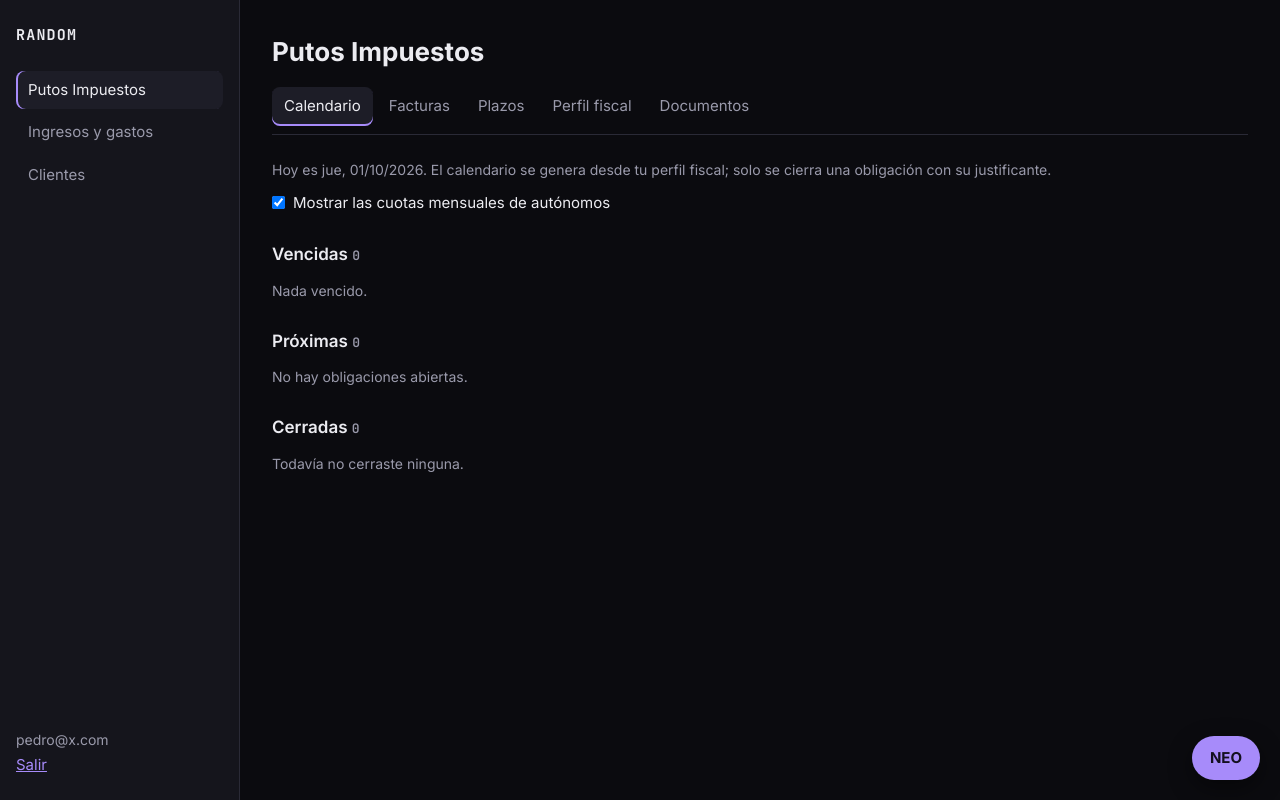
Scenario: shell › salir cierra la sesión
Click the button "Salir" at (32, 765), box [16, 754, 47, 776]
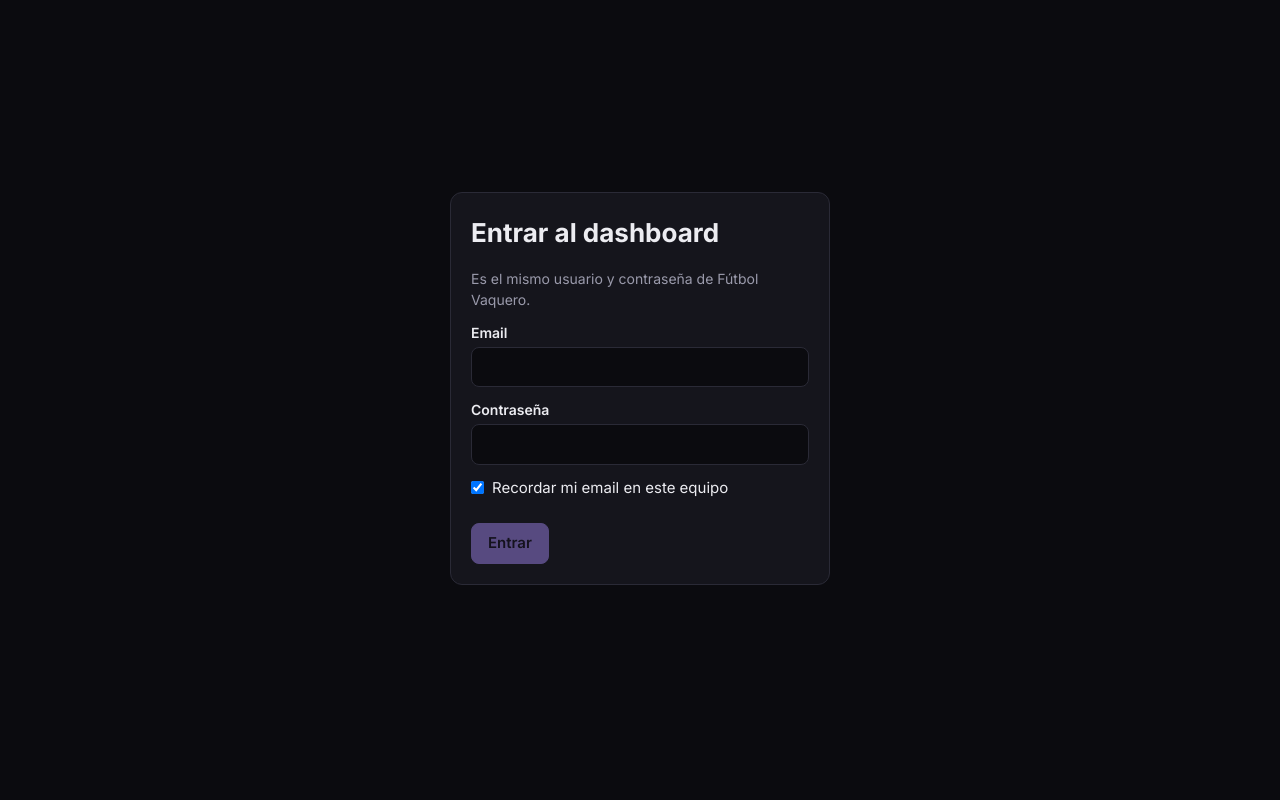
expect the heading "Entrar al dashboard" is shown: met, box [471, 216, 719, 248]
